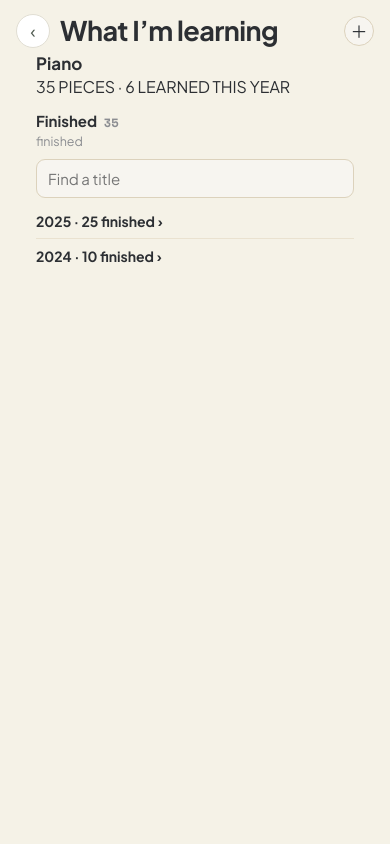
Scenario: a books shelf, 200 long (P8) › opening a year bucket shows that year alone, and "All years" returns to the buckets
Click the button "2024 · 10 finished ›" at (99, 256), box [36,238,354,272]
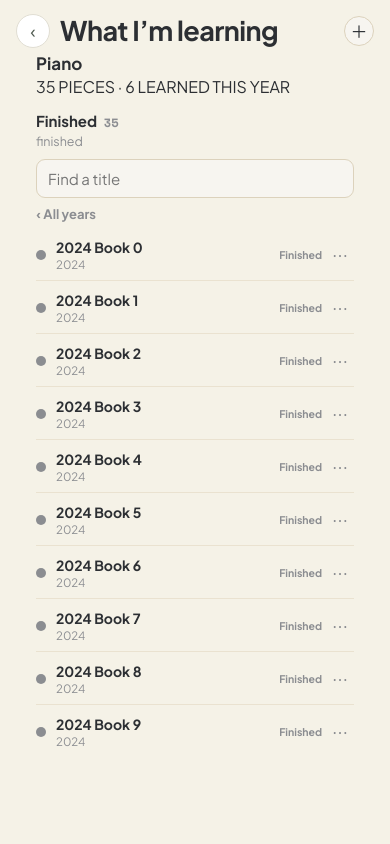
Check: the text "2024 Book 0" is shown, box [56,238,143,256]
Click the button "‹ All years" at (66, 216), box [36,204,96,230]
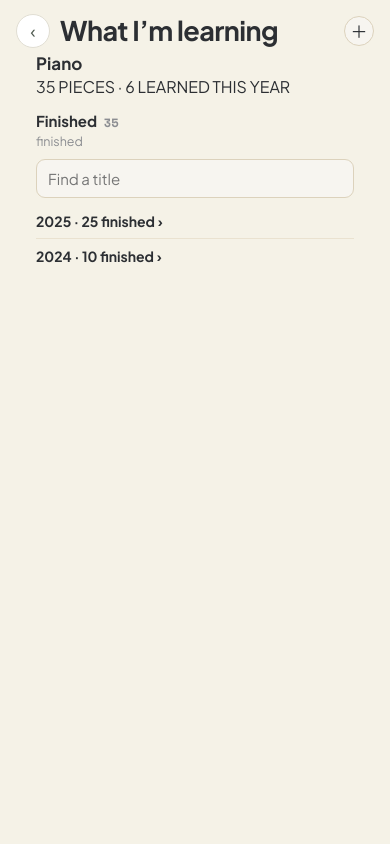
Check: the button "2025 · 25 finished ›" is shown, box [36,204,354,238]
Check: the button "2024 Book 0" is gone
